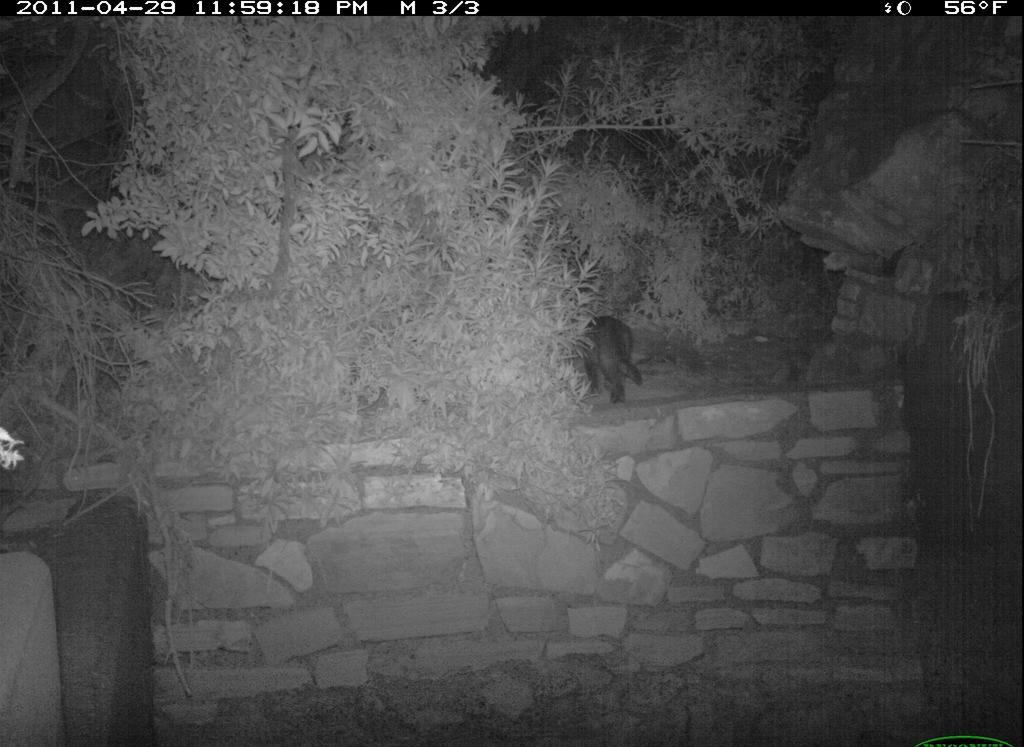cat: (577, 306, 653, 410)
